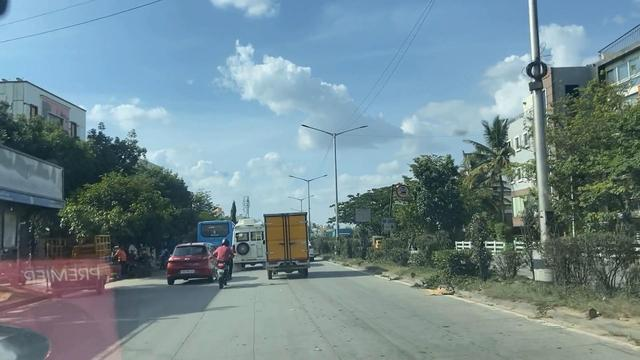HMV: (259, 209, 316, 279), (233, 222, 266, 265)
LMV: (169, 239, 216, 280), (215, 239, 232, 284)
